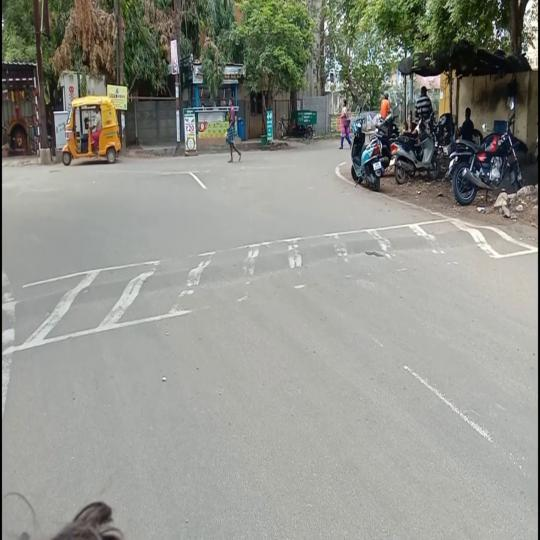Speed Bump: (2, 228, 503, 336)
